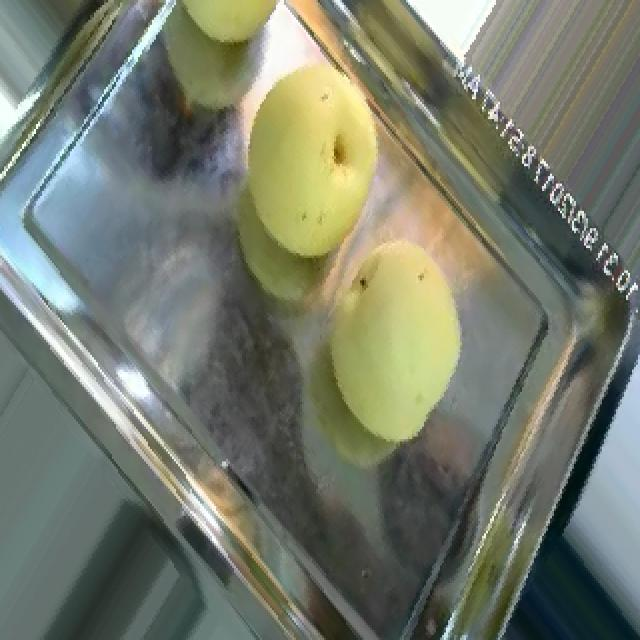Fruit: (270, 184, 494, 472), (200, 40, 408, 278), (148, 0, 300, 60)
